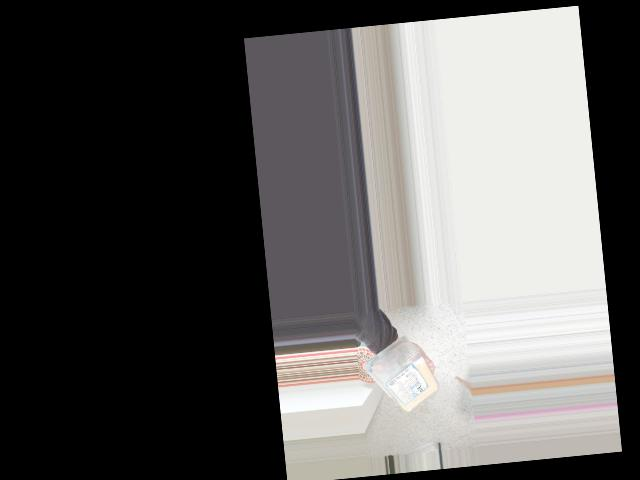cheese: (367, 343, 431, 418)
